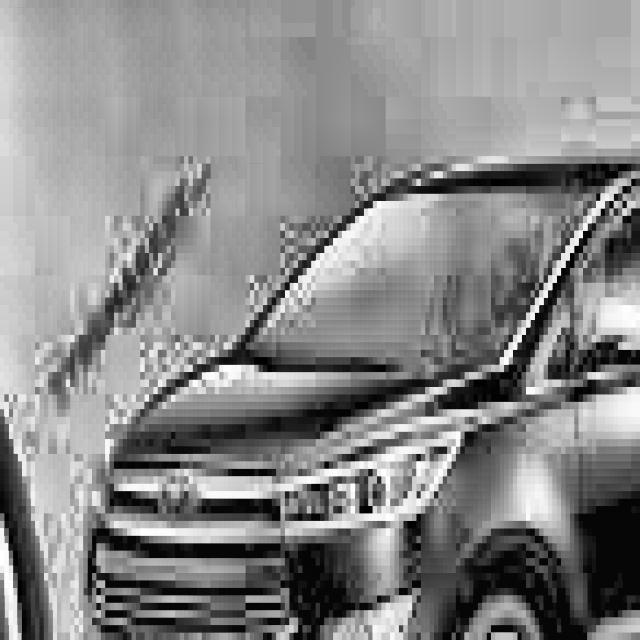light_vehicle: (74, 149, 640, 640)
